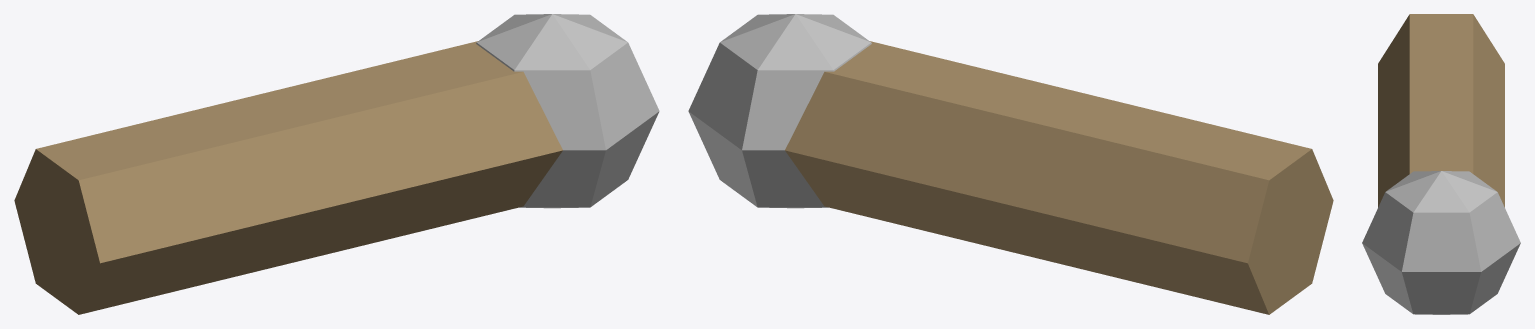
File: siege_ram.glb
3 renders of one model, left to right at view 1: azimuth 30°, elevation 25°; view 2: azimuth 150°, elevation 25°; view 3: azimuth 270°, elevation 25°, orthographic. The views are drawn at different scales.
Parts seen in each view (by area): view 1: log, tip; view 2: log, tip; view 3: log, tip.
Part boxes in pixels (left/top/right/bottom): log: left=14, top=41, right=562, bottom=314; tip: left=476, top=14, right=659, bottom=208; log: left=785, top=41, right=1333, bottom=314; tip: left=688, top=14, right=871, bottom=208; log: left=1378, top=14, right=1504, bottom=207; tip: left=1362, top=171, right=1520, bottom=314.
Size of the model in its own units: 0.093 by 0.03 by 0.03.
